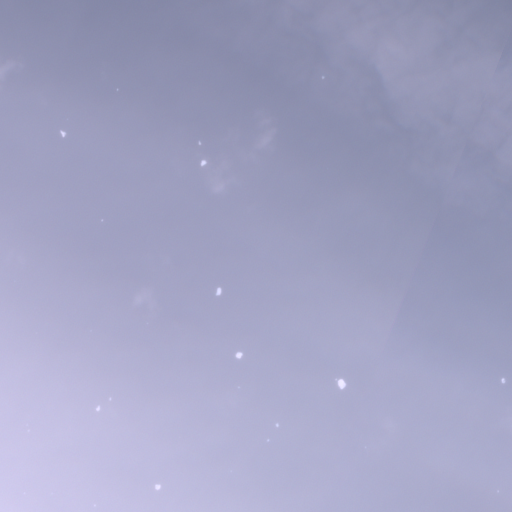Iceberg: (338, 379, 345, 389), (236, 352, 242, 358), (216, 287, 221, 294), (60, 130, 65, 136), (201, 160, 206, 165), (155, 484, 160, 489), (501, 378, 505, 382), (96, 405, 99, 410), (198, 141, 201, 144), (322, 75, 324, 78), (276, 423, 278, 426), (117, 88, 118, 90), (267, 439, 268, 441), (101, 219, 102, 220), (335, 378, 336, 379)
